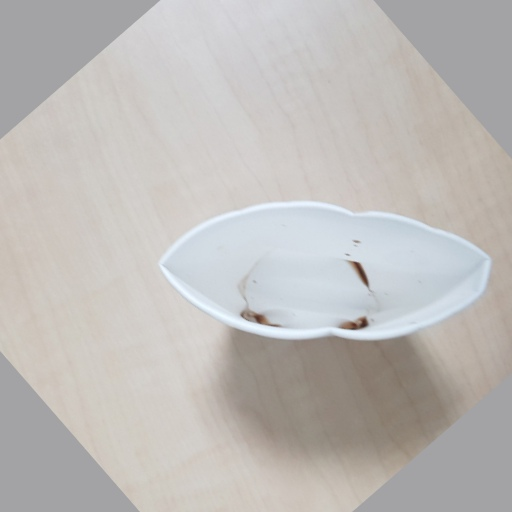Paper_1: (157, 203, 491, 342)
